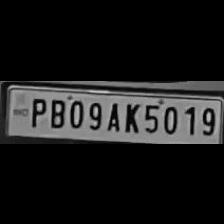0: (158, 102, 180, 134), (65, 95, 84, 127)
1: (180, 102, 198, 134)
5: (140, 100, 160, 132)
9: (197, 102, 217, 136), (84, 97, 104, 129)
A: (104, 98, 122, 132)
B: (46, 96, 66, 128)
K: (120, 98, 140, 132)
P: (26, 94, 46, 128)
